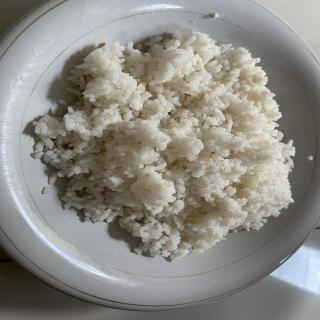Nasi: (36, 27, 298, 261)
